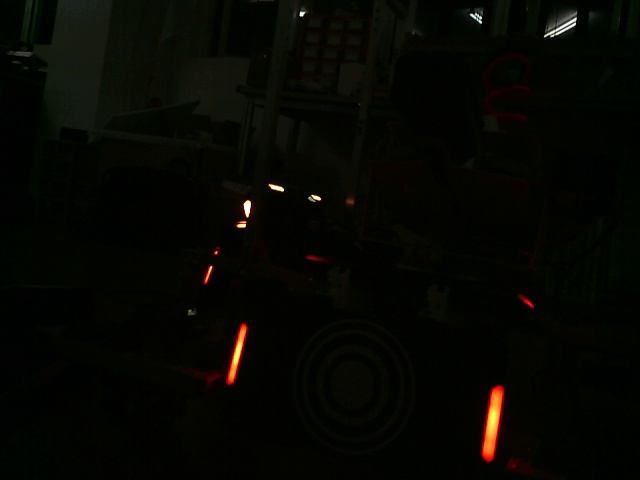lamp: (477, 384, 510, 466), (226, 322, 248, 385)
